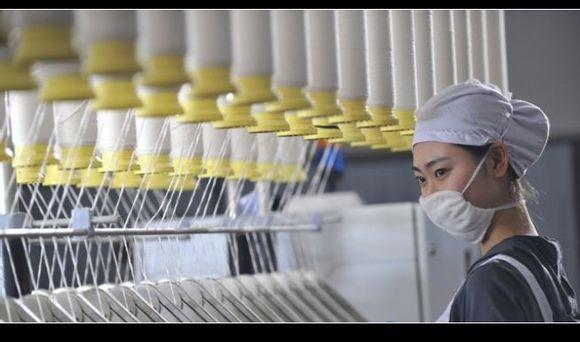OK: (412, 159, 498, 249)
